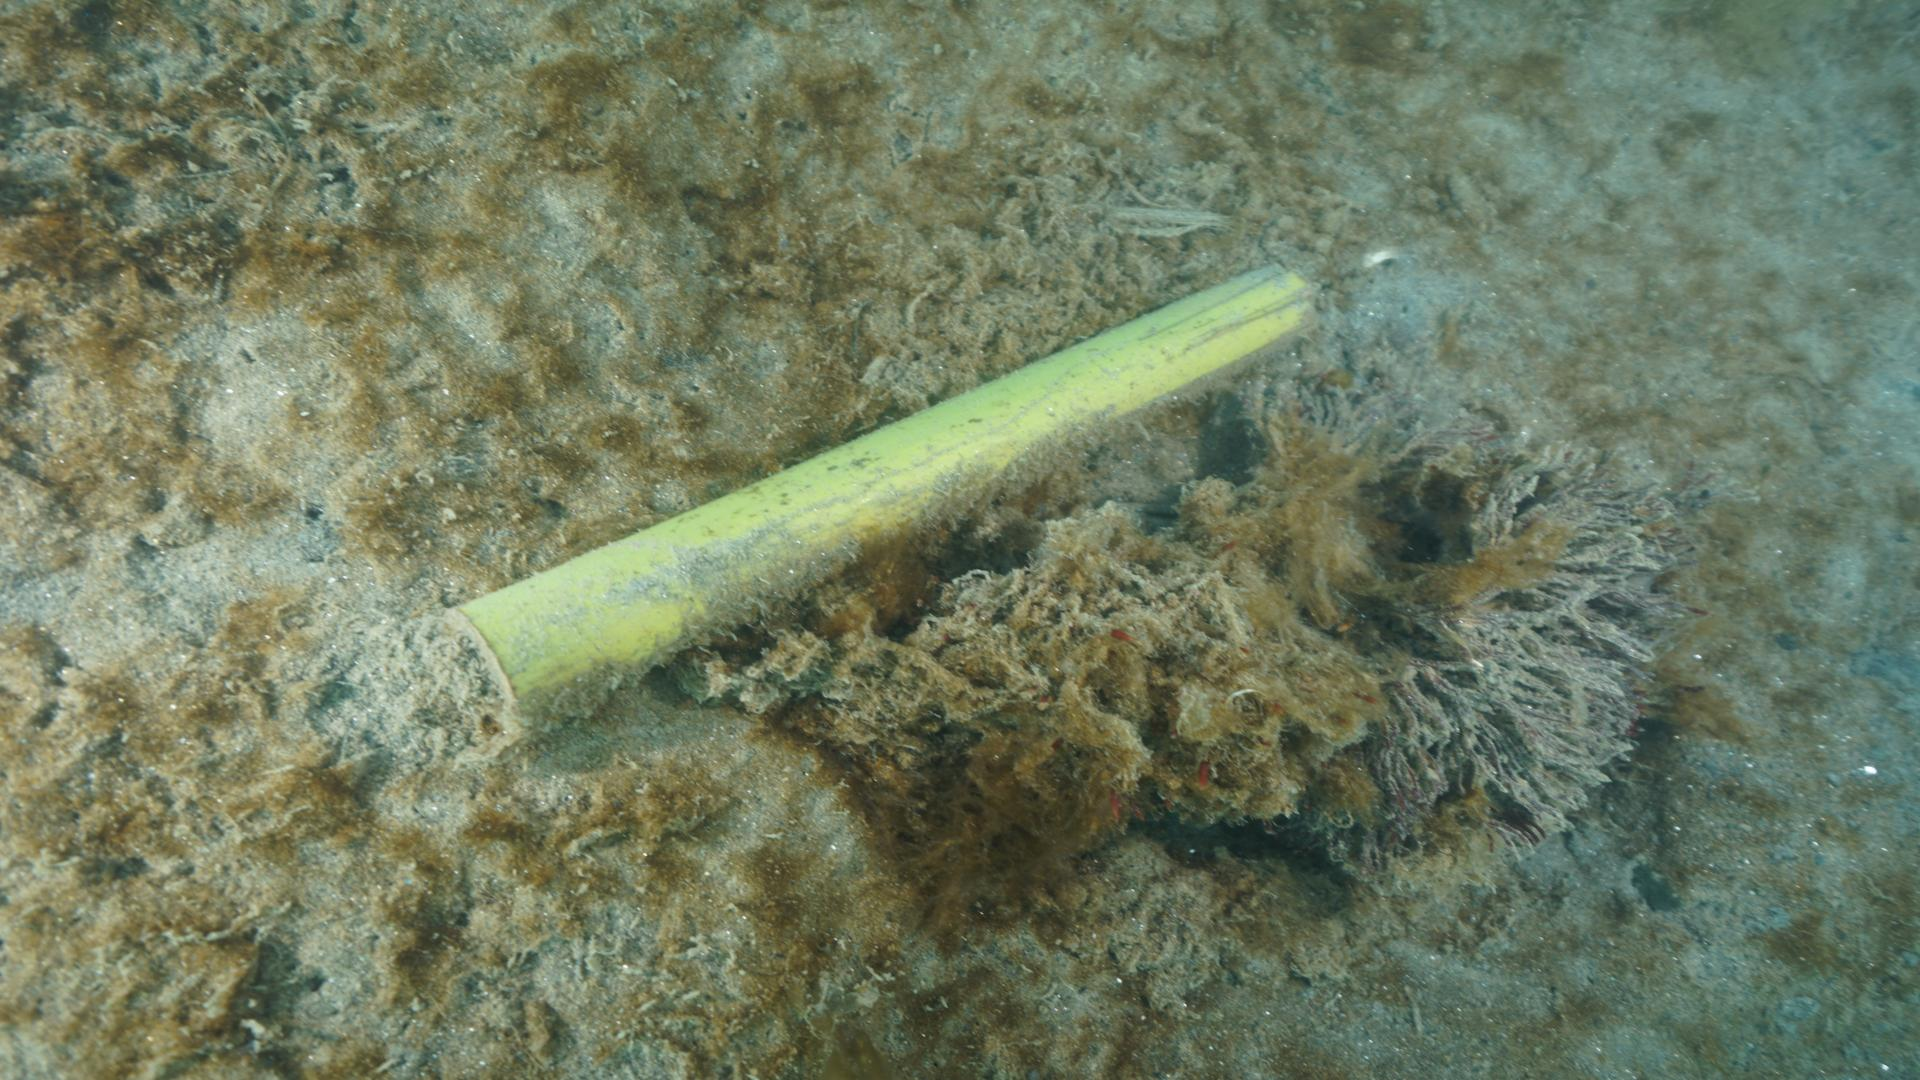wood: (436, 258, 1327, 746)
